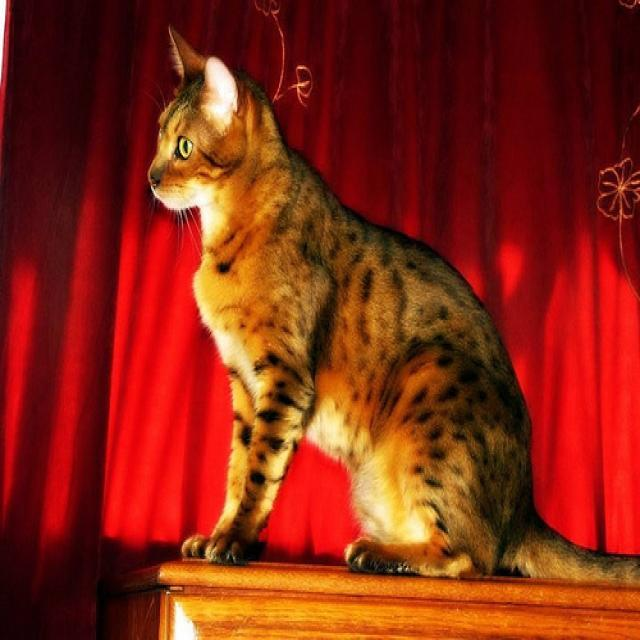Bengal: (146, 23, 260, 209)
